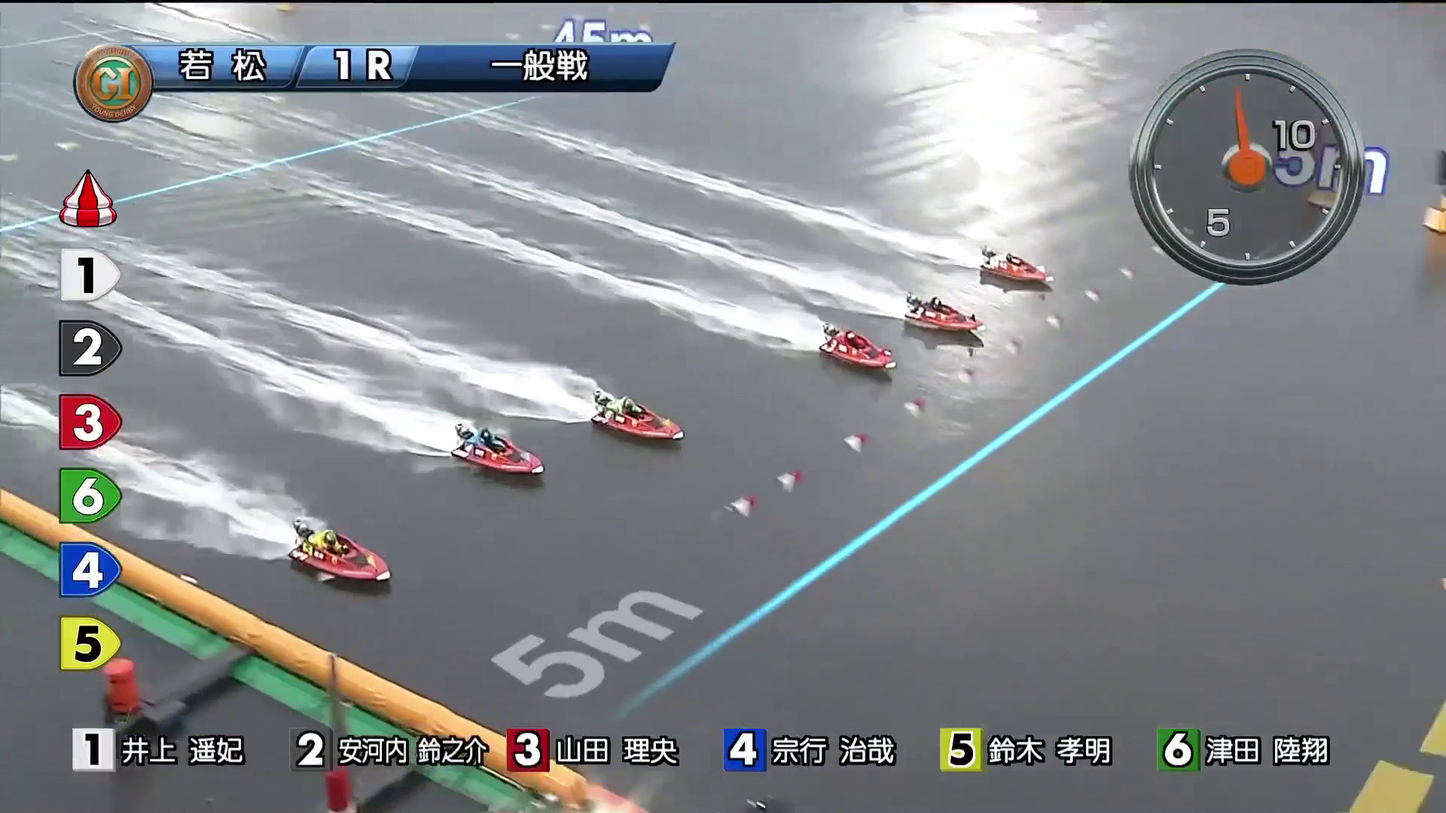１号艇: (943, 237, 1013, 284)
２号艇: (907, 289, 969, 327)
３号艇: (823, 323, 877, 365)
４号艇: (617, 394, 681, 437)
５号艇: (487, 450, 556, 488)
６号艇: (369, 564, 434, 611)
